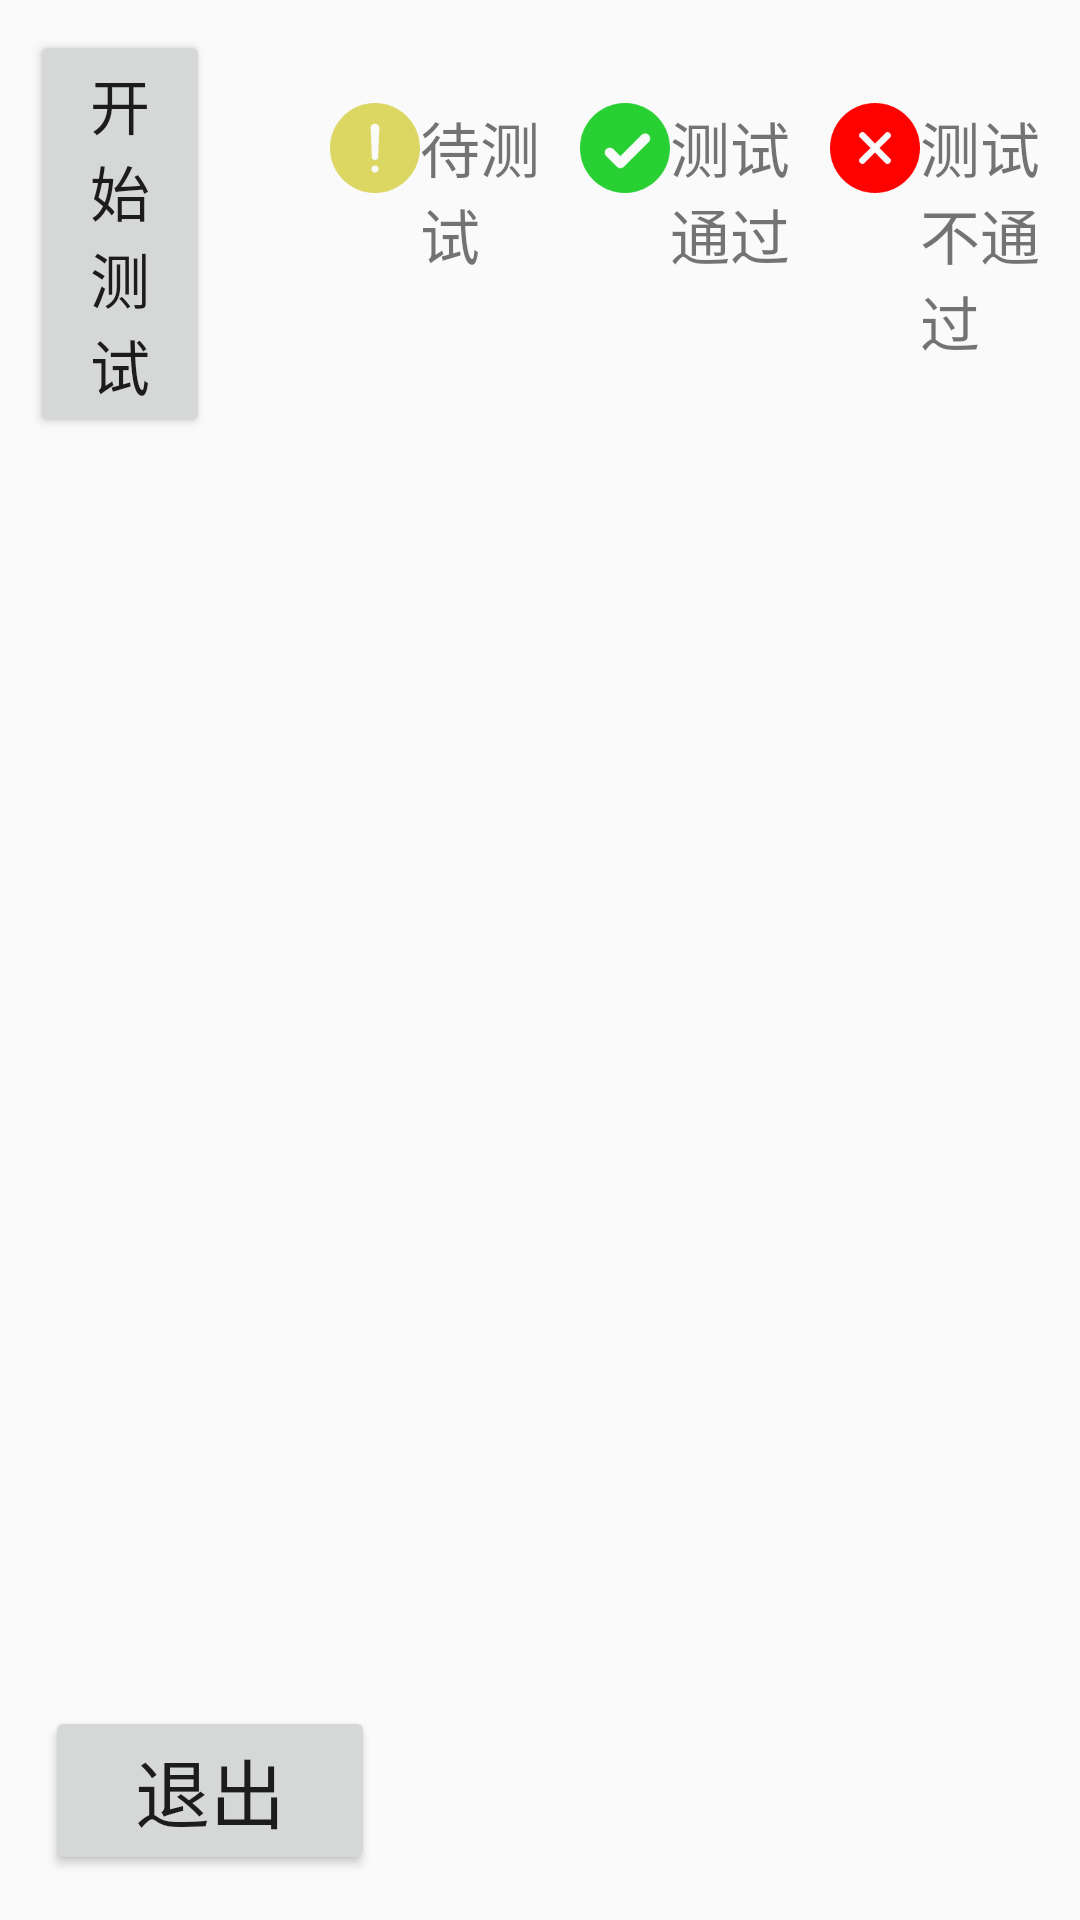

Icons on this 1080px×1920px Android screen, each with its box as (x1, y1, x2, y2):
no pass: (830, 103, 920, 193)
pass: (580, 103, 670, 193)
